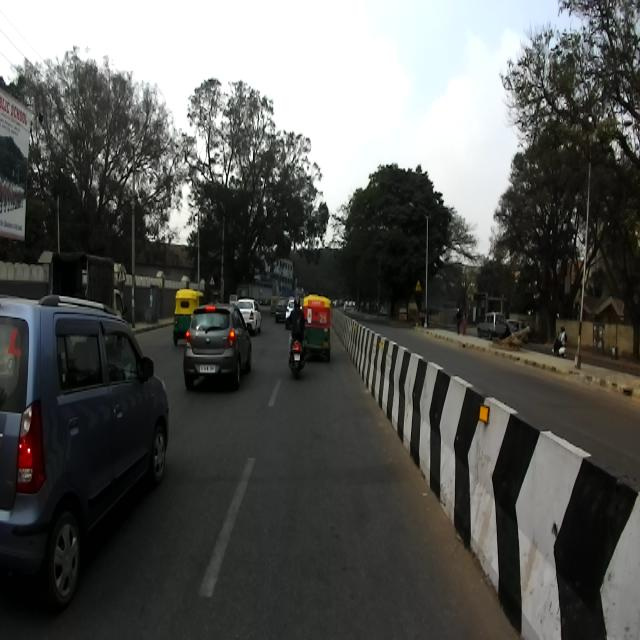car ahead at: (0, 292, 170, 612), (184, 303, 255, 391)
